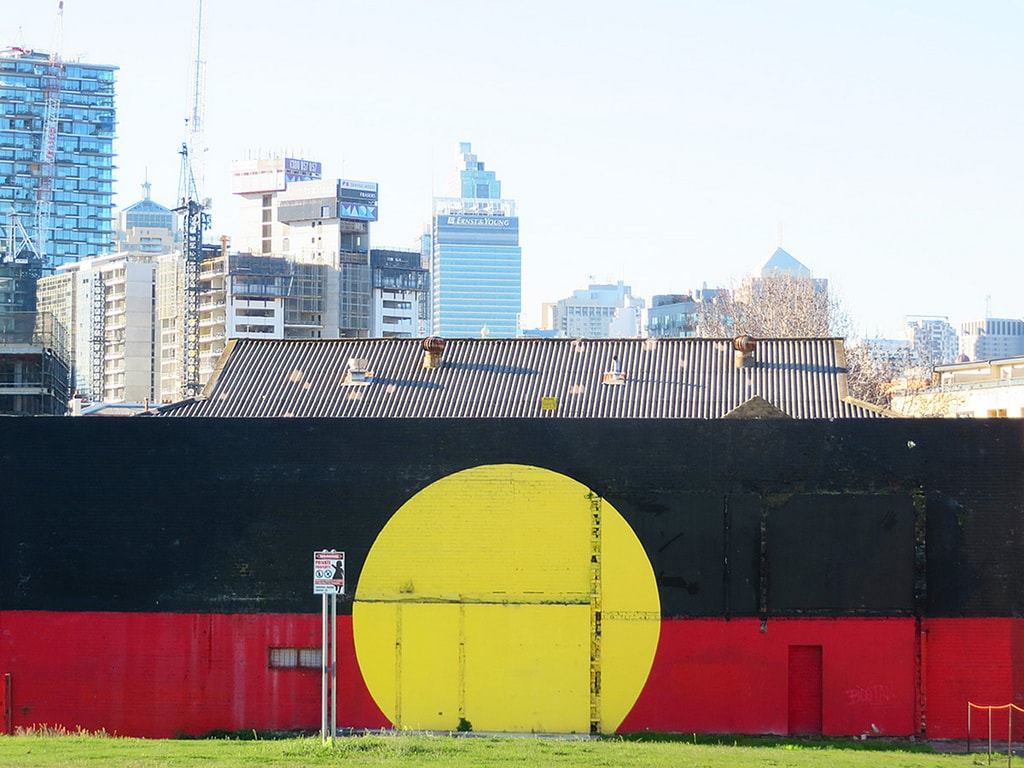aboriginal_flag: (3, 412, 1024, 747)
